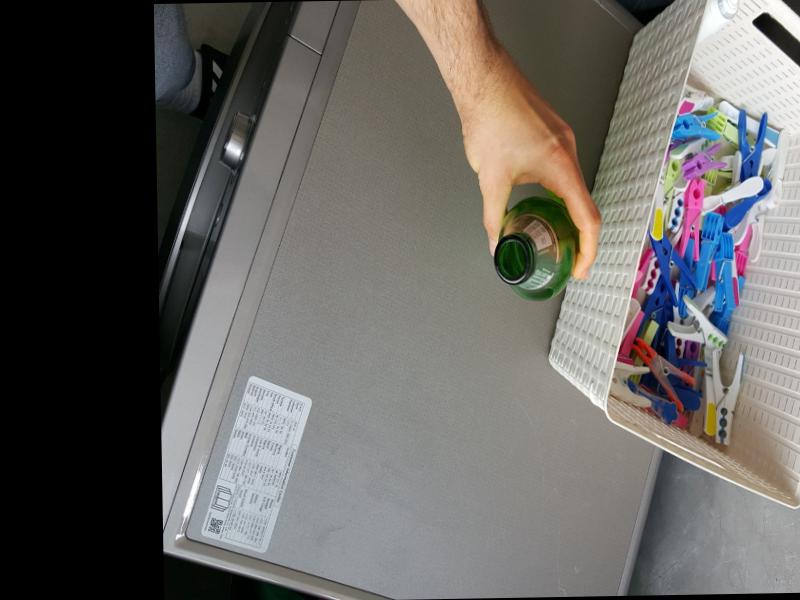Beer: (491, 193, 579, 302)
